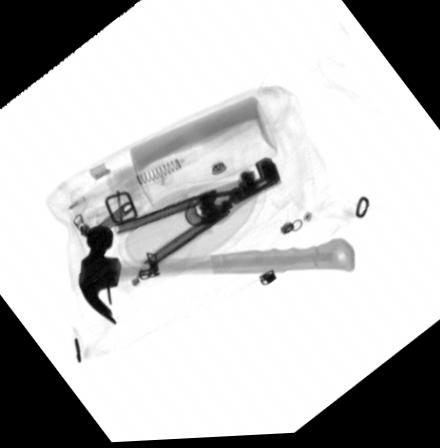Hammer: (75, 225, 353, 326)
Pliers: (111, 159, 281, 271)
